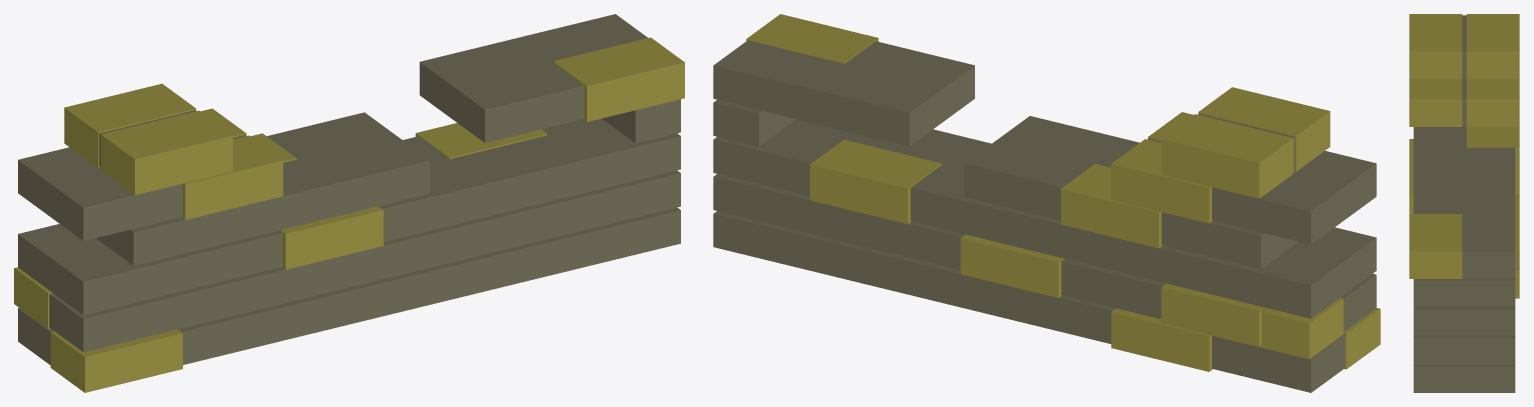
Rendered from SM_PretilTramo_v2_Irregular_e0_Sano_LOD1.fbx.
3 views of the same model, side by side, from view 1: azimuth 30°, elevation 25°; view 2: azimuth 150°, elevation 25°; view 3: azimuth 270°, elevation 25° (orthographic). The views are drawn at different scales.
Parts seen in each view (by area): view 1: SM_pretil_azotea_v8_LOD1; view 2: SM_pretil_azotea_v8_LOD1; view 3: SM_pretil_azotea_v8_LOD1.
Boxes of the visible parts, x1,y1,x2,y2 form: SM_pretil_azotea_v8_LOD1: [14, 14, 684, 392]; SM_pretil_azotea_v8_LOD1: [713, 14, 1380, 392]; SM_pretil_azotea_v8_LOD1: [1409, 14, 1519, 392].
Bounding box in the file's own units: 5.08 × 1.79 × 1.04.
